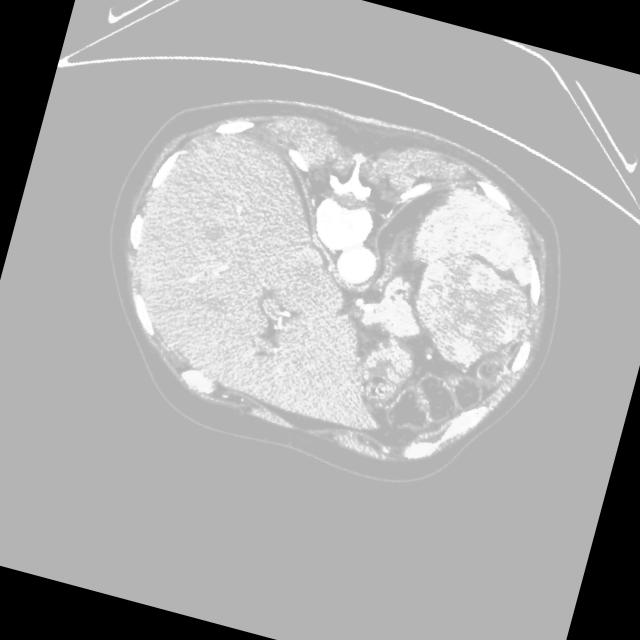TUMOR: (358, 180, 614, 471)
